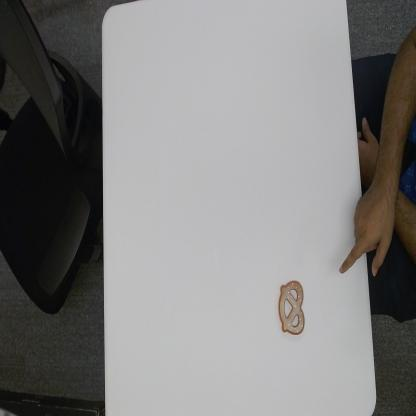Pretzel: (338, 178, 396, 276), (278, 277, 307, 337)
